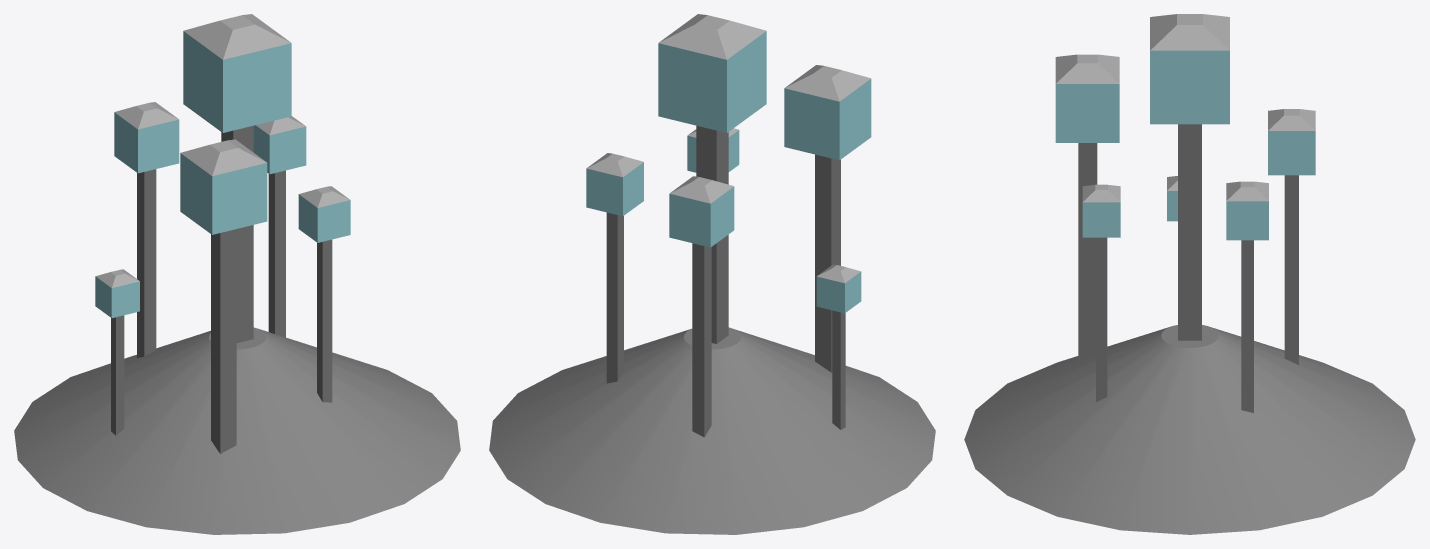
Rendered from AnotherLight2.fbx.
3 views of the same model, side by side, from view 1: azimuth 30°, elevation 25°; view 2: azimuth 150°, elevation 25°; view 3: azimuth 270°, elevation 25° (orthographic).
Visible parts, largest first — view 1: anotherlight2; view 2: anotherlight2; view 3: anotherlight2.
Part boxes in pixels (x1,y1,x2,y2): anotherlight2: (14,14,460,534); anotherlight2: (489,14,935,534); anotherlight2: (964,14,1415,534).
Size of the model in its own units: 15.59 by 17.74 by 15.59.
